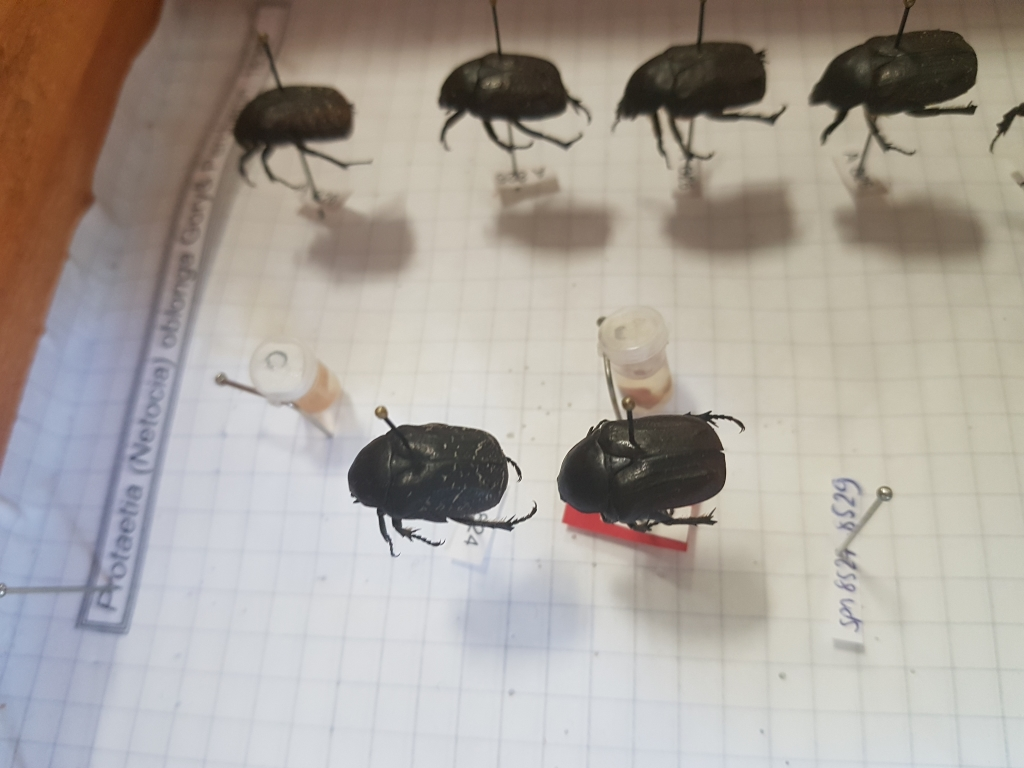Protaetia_oblonga: (546, 400, 753, 535), (340, 408, 524, 559), (810, 21, 983, 160), (609, 36, 782, 166), (432, 45, 592, 161), (231, 79, 364, 189)
